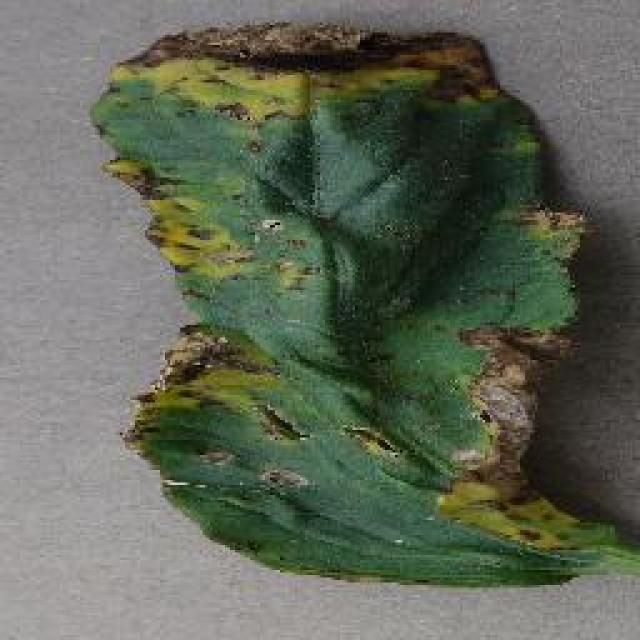Tomato bacterial spot leaf: (81, 9, 640, 606)
